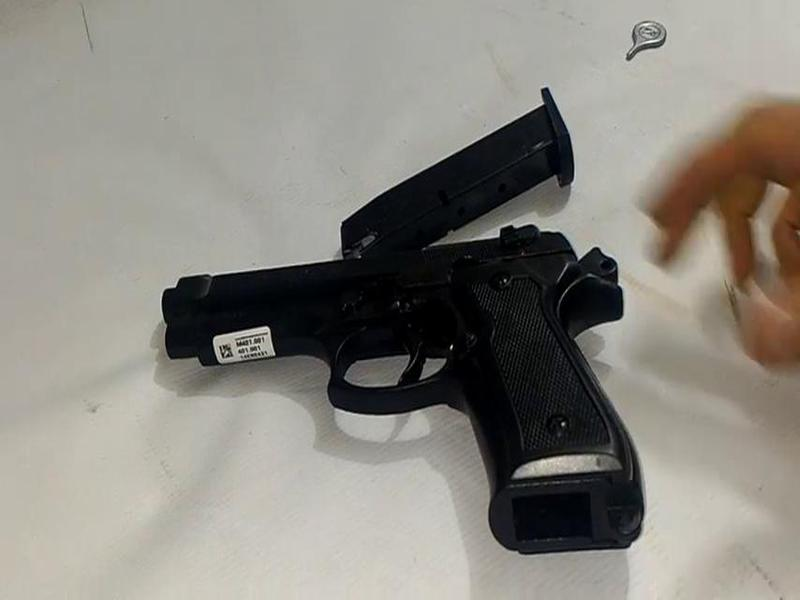Pistola: (151, 222, 667, 554)
